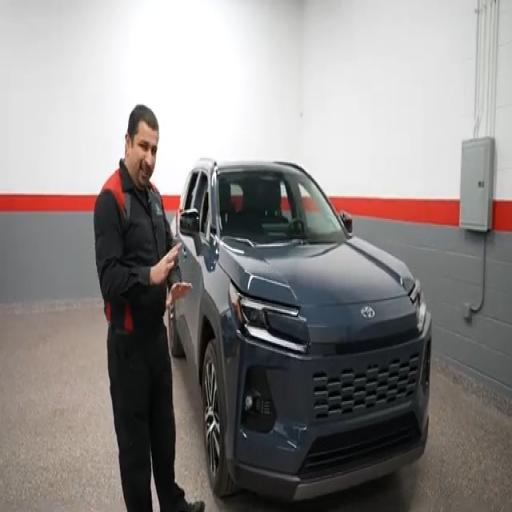bumper: (226, 315, 431, 500), (231, 421, 428, 502)
door: (184, 171, 209, 345), (176, 222, 195, 283)
emblem: (361, 306, 375, 318)
fog_light: (417, 302, 426, 332), (244, 394, 253, 411)
grille: (313, 353, 419, 419)
headlight: (229, 284, 308, 352), (410, 279, 426, 332)
hood: (220, 238, 412, 305)
side_mirror: (180, 210, 199, 237), (340, 212, 352, 234)
wheel: (201, 339, 235, 497), (168, 308, 184, 358)
window: (192, 173, 209, 237), (181, 171, 198, 209)
windshield: (217, 170, 346, 244)
